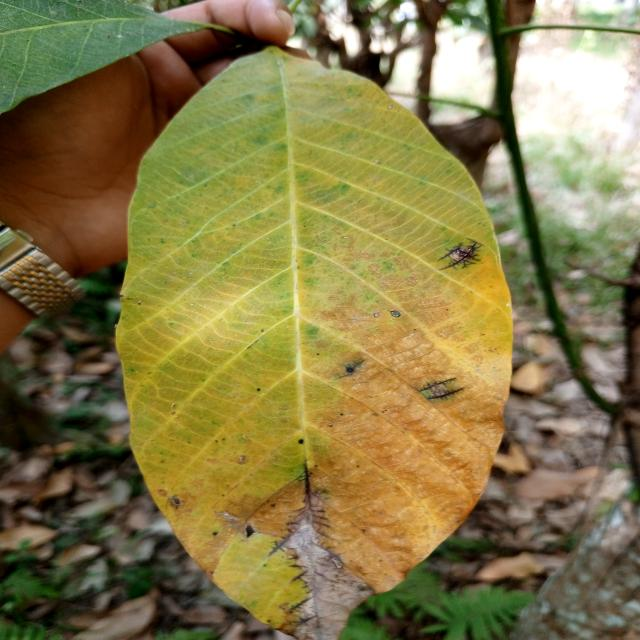Colletotrichum: (390, 310, 401, 317), (298, 439, 304, 444), (373, 313, 379, 317), (387, 106, 392, 110)
Corynespora: (437, 237, 485, 271), (267, 530, 294, 556), (332, 359, 365, 380), (416, 377, 456, 393), (426, 387, 465, 400), (297, 463, 311, 498), (288, 598, 311, 611), (291, 568, 308, 583), (296, 615, 316, 625)
Leaf-Blight: (279, 510, 376, 640)
